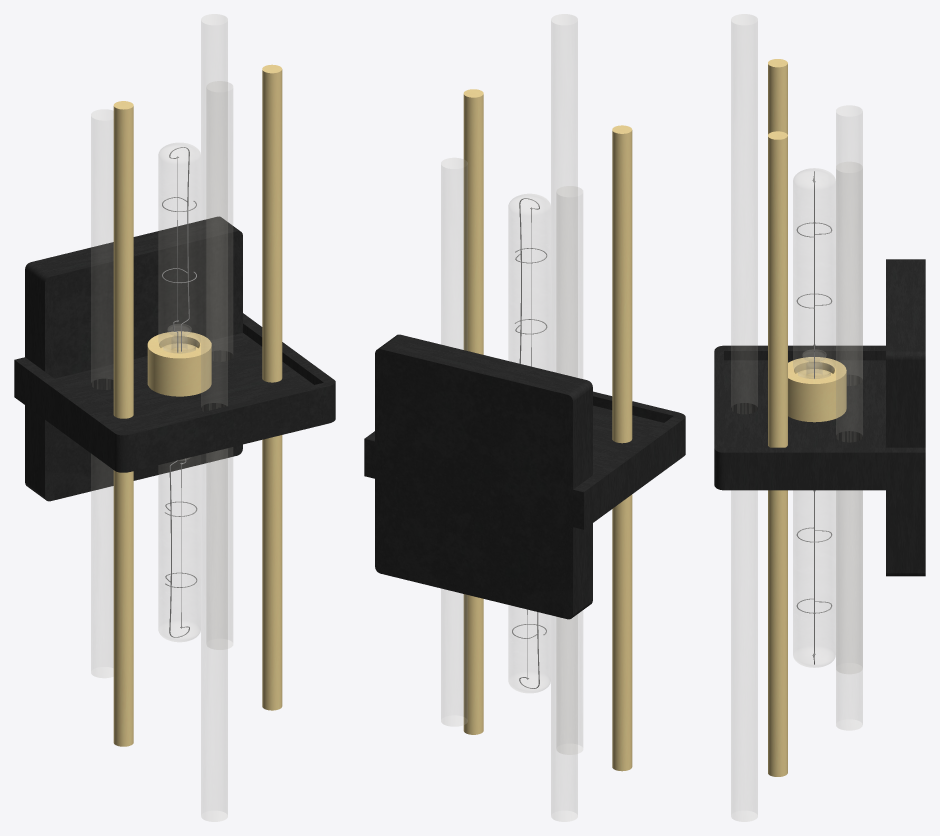
Rendered from orrizo-wall-sconce.glb.
3 views of the same model, side by side, from view 1: azimuth 30°, elevation 25°; view 2: azimuth 150°, elevation 25°; view 3: azimuth 270°, elevation 25° (orthographic).
Visible parts, largest first — view 1: Cube, Cylinder.003, Cylinder.001, Cylinder.002, Cylinder.004, Cylinder.005, bulb, bulb.001, Cylinder; view 2: Cube, Cylinder.003, Cylinder.001, Cylinder.005, Cylinder.004, Cylinder.002, bulb, bulb.001; view 3: Cube, Cylinder.003, Cylinder.004, Cylinder.005, Cylinder.002, bulb, bulb.001, Cylinder, Cylinder.001.
Part boxes in pixels (x1,y1,x2,y2): Cube: (14, 216, 335, 501); Cylinder.003: (201, 14, 227, 821); Cylinder.001: (113, 101, 133, 746); Cylinder.002: (262, 64, 282, 710); Cylinder.004: (207, 81, 232, 649); Cylinder.005: (91, 109, 113, 677); bulb: (158, 143, 200, 353); bulb.001: (158, 455, 200, 641); Cylinder: (147, 331, 211, 396); Cube: (364, 334, 685, 619); Cylinder.003: (551, 14, 577, 821); Cylinder.001: (612, 125, 632, 771); Cylinder.005: (556, 186, 582, 754); Cylinder.004: (441, 158, 467, 726); Cylinder.002: (463, 89, 483, 734); bulb: (508, 194, 550, 370); bulb.001: (508, 605, 550, 692); Cube: (714, 259, 925, 576); Cylinder.003: (731, 14, 757, 821); Cylinder.004: (836, 162, 862, 730); Cylinder.005: (836, 105, 862, 673); Cylinder.002: (768, 131, 787, 776); bulb: (793, 168, 835, 378); bulb.001: (793, 490, 835, 667); Cylinder: (788, 357, 846, 422); Cylinder.001: (768, 59, 787, 134).
Size of the model in its own units: 0.266 by 0.9225 by 0.2216.
4 materials, 4 textured.
